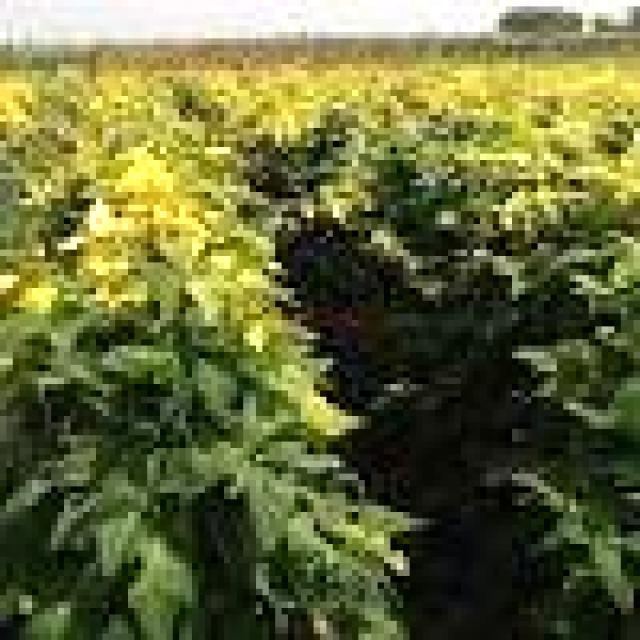yellowish leaf: (14, 62, 308, 368), (329, 61, 640, 152)
